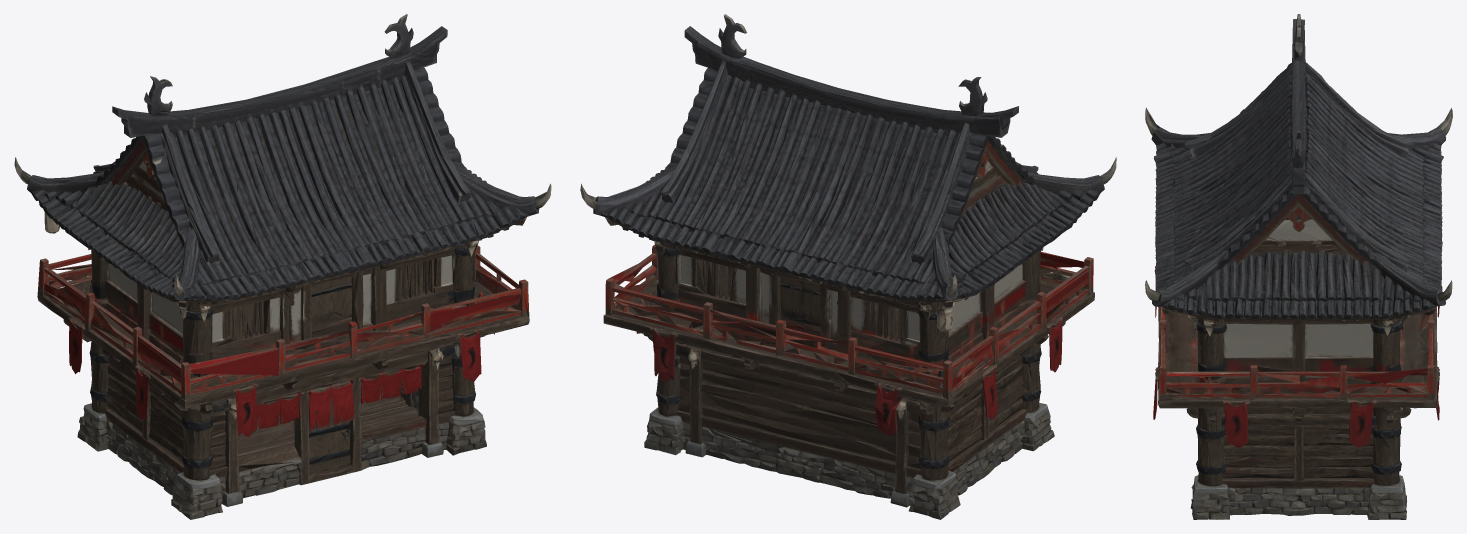
The model's file is house_bal_a.glb.
3 renders of one model, left to right at view 1: azimuth 30°, elevation 25°; view 2: azimuth 150°, elevation 25°; view 3: azimuth 270°, elevation 25°, orthographic. The views are drawn at different scales.
Parts seen in each view (by area): view 1: house_bal_a; view 2: house_bal_a; view 3: house_bal_a.
Boxes of the visible parts, <box> form: house_bal_a: <box>14,14,551,519</box>; house_bal_a: <box>580,14,1116,519</box>; house_bal_a: <box>1145,14,1452,519</box>.
Bounding box in the file's own units: 8.39 × 8.5 × 6.29.
Materials: 1 (1 with a texture image).
